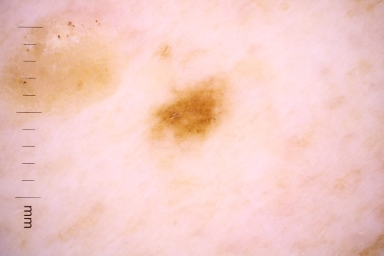nevus: (153, 79, 229, 141)
